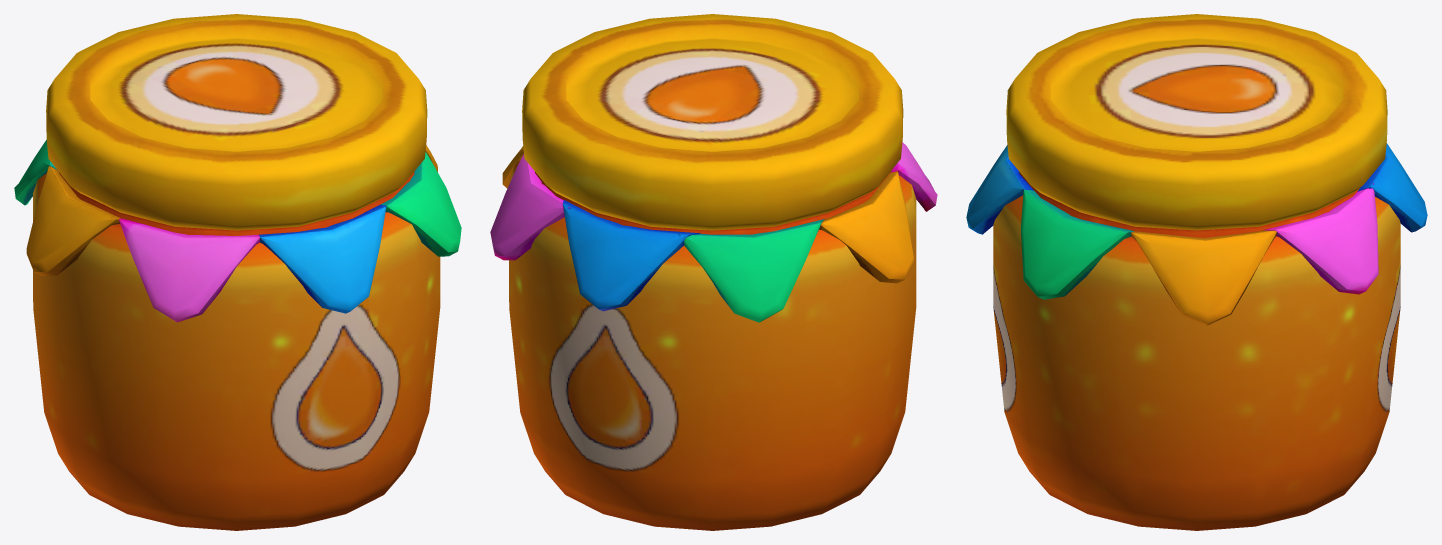
The model's file is JamJar_Orange.glb.
The picture shows the model from 3 angles, left to right: view 1: azimuth 30°, elevation 25°; view 2: azimuth 150°, elevation 25°; view 3: azimuth 270°, elevation 25°; orthographic projection.
Bounding box in the file's own units: 1.1 × 0.991 × 1.1.
Materials: 1 (1 with a texture image).
